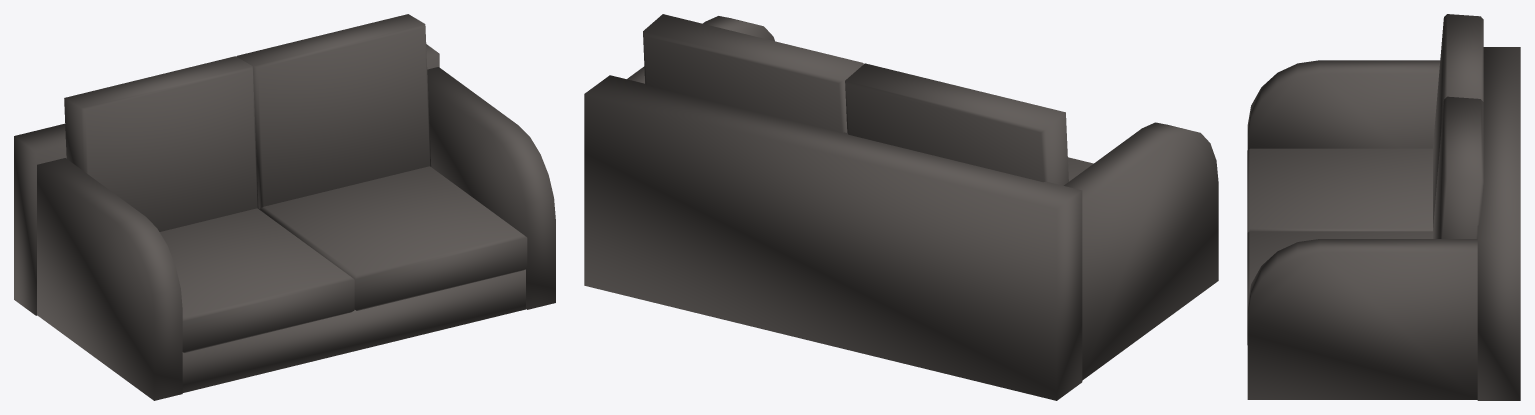
File: Sofa_02.fbx
3 views of the same model, side by side, from view 1: azimuth 30°, elevation 25°; view 2: azimuth 150°, elevation 25°; view 3: azimuth 270°, elevation 25° (orthographic). The views are drawn at different scales.
Parts seen in each view (by area): view 1: Sofa_02; view 2: Sofa_02; view 3: Sofa_02.
Boxes of the visible parts, bbox=[...] form: Sofa_02: bbox=[14, 14, 555, 400]; Sofa_02: bbox=[584, 14, 1218, 400]; Sofa_02: bbox=[1247, 14, 1520, 400].
Size of the model in its own units: 202 by 101 by 121.
